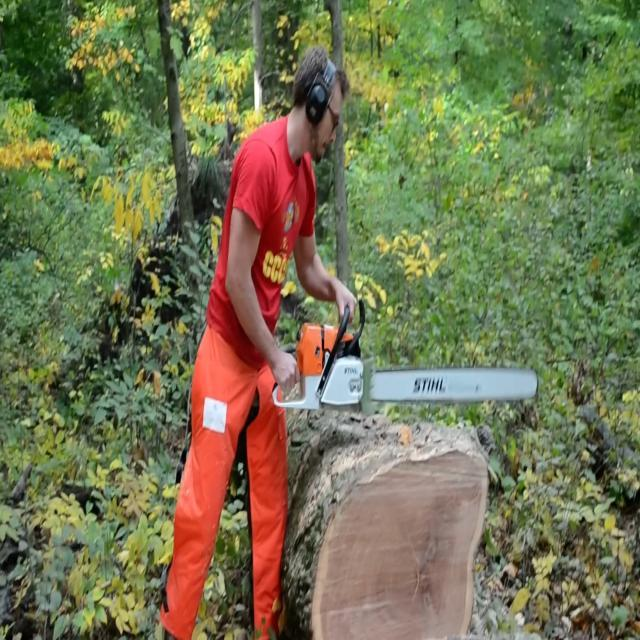Chainsaw: (266, 308, 556, 430)
